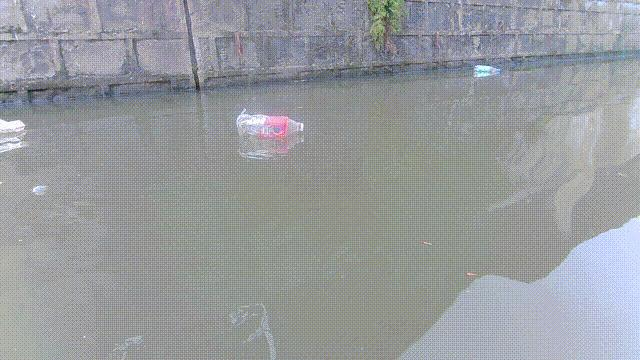Plastic: (235, 111, 311, 142), (0, 119, 34, 145), (471, 64, 507, 78)
